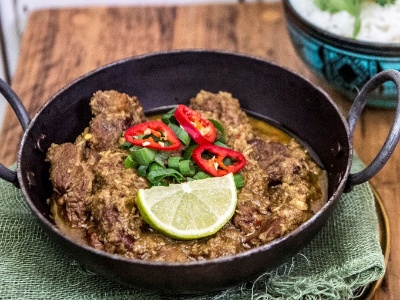rendang: (59, 100, 303, 244)
